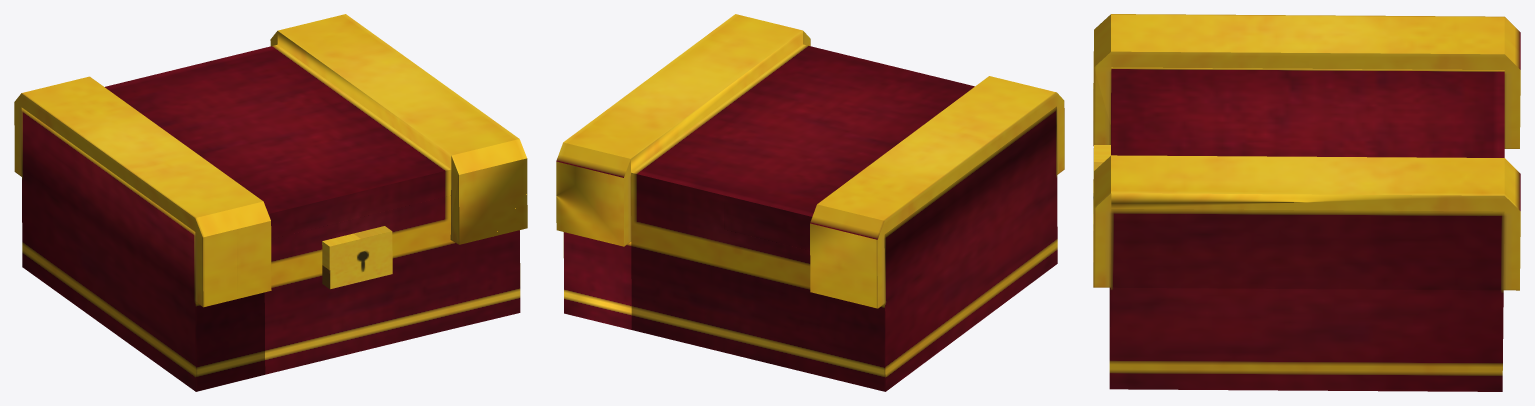
Rendered from storage2.FBX.
3 views of the same model, side by side, from view 1: azimuth 30°, elevation 25°; view 2: azimuth 150°, elevation 25°; view 3: azimuth 270°, elevation 25° (orthographic). The views are drawn at different scales.
Visible parts, largest first — view 1: storage02; view 2: storage02; view 3: storage02.
Part boxes in pixels (x1,y1,x2,y2): storage02: (14, 14, 527, 391); storage02: (556, 14, 1064, 391); storage02: (1093, 14, 1520, 391).
Bounding box in the file's own units: 157 × 81.06 × 158.
